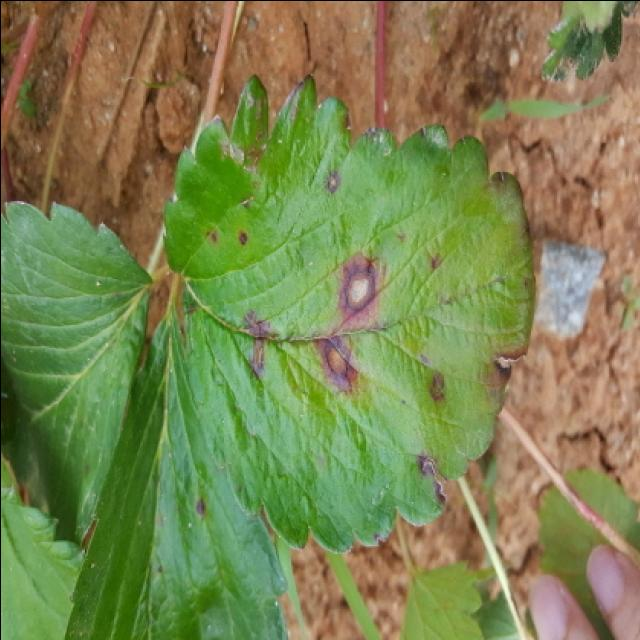Leaf Spot: (160, 72, 535, 555), (64, 300, 287, 640), (0, 200, 153, 549)
